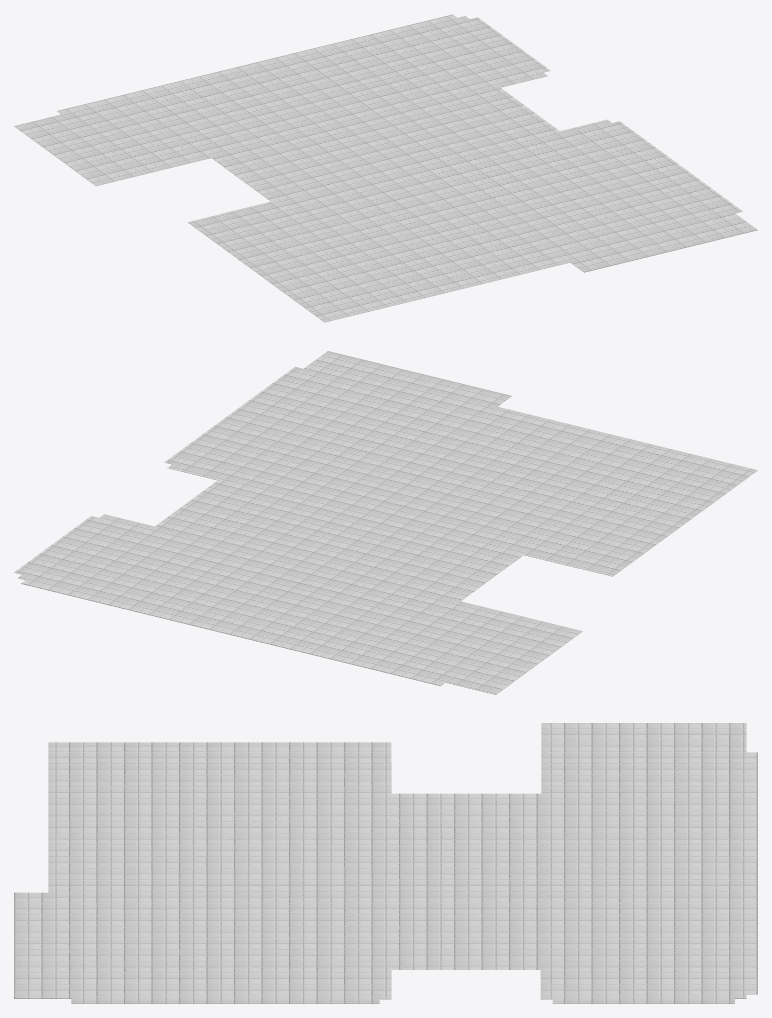
Rendered from floor_ceiling 1.fbx.
3 renders of one model, top to bottom at view 1: azimuth 30°, elevation 25°; view 2: azimuth 150°, elevation 25°; view 3: azimuth 270°, elevation 25°, orthographic. The views are drawn at different scales.
Parts seen in each view (by area): view 1: floor_ceiling; view 2: floor_ceiling; view 3: floor_ceiling.
Part boxes in pixels (box(x1,y1,x2,y2)): floor_ceiling: box(14, 14, 757, 322); floor_ceiling: box(14, 351, 757, 694); floor_ceiling: box(14, 723, 757, 1003).
Size of the model in its own units: 28.96 by 0.01 by 32.46.
